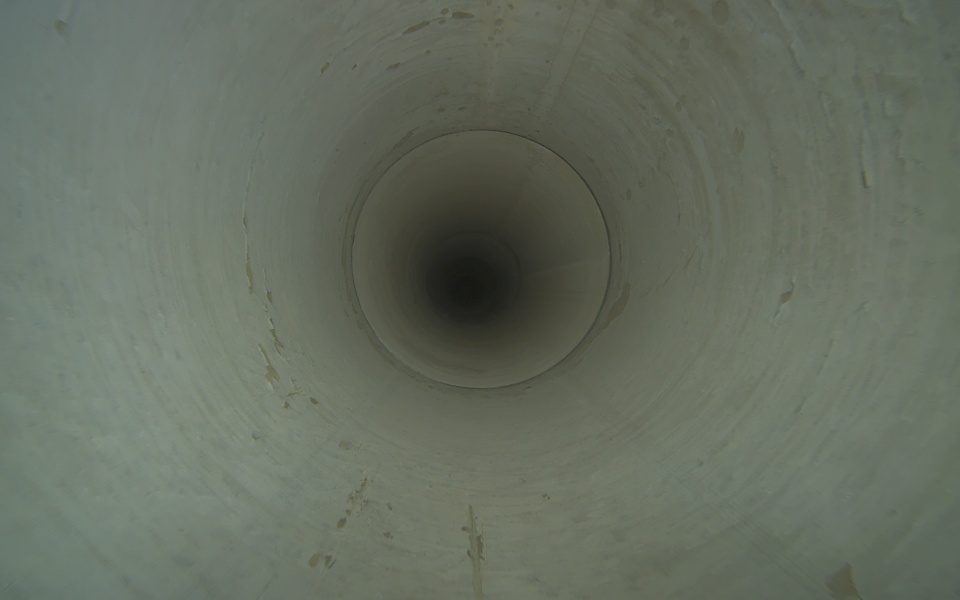circle1: (346, 125, 616, 394)
circle2: (448, 257, 497, 306)
